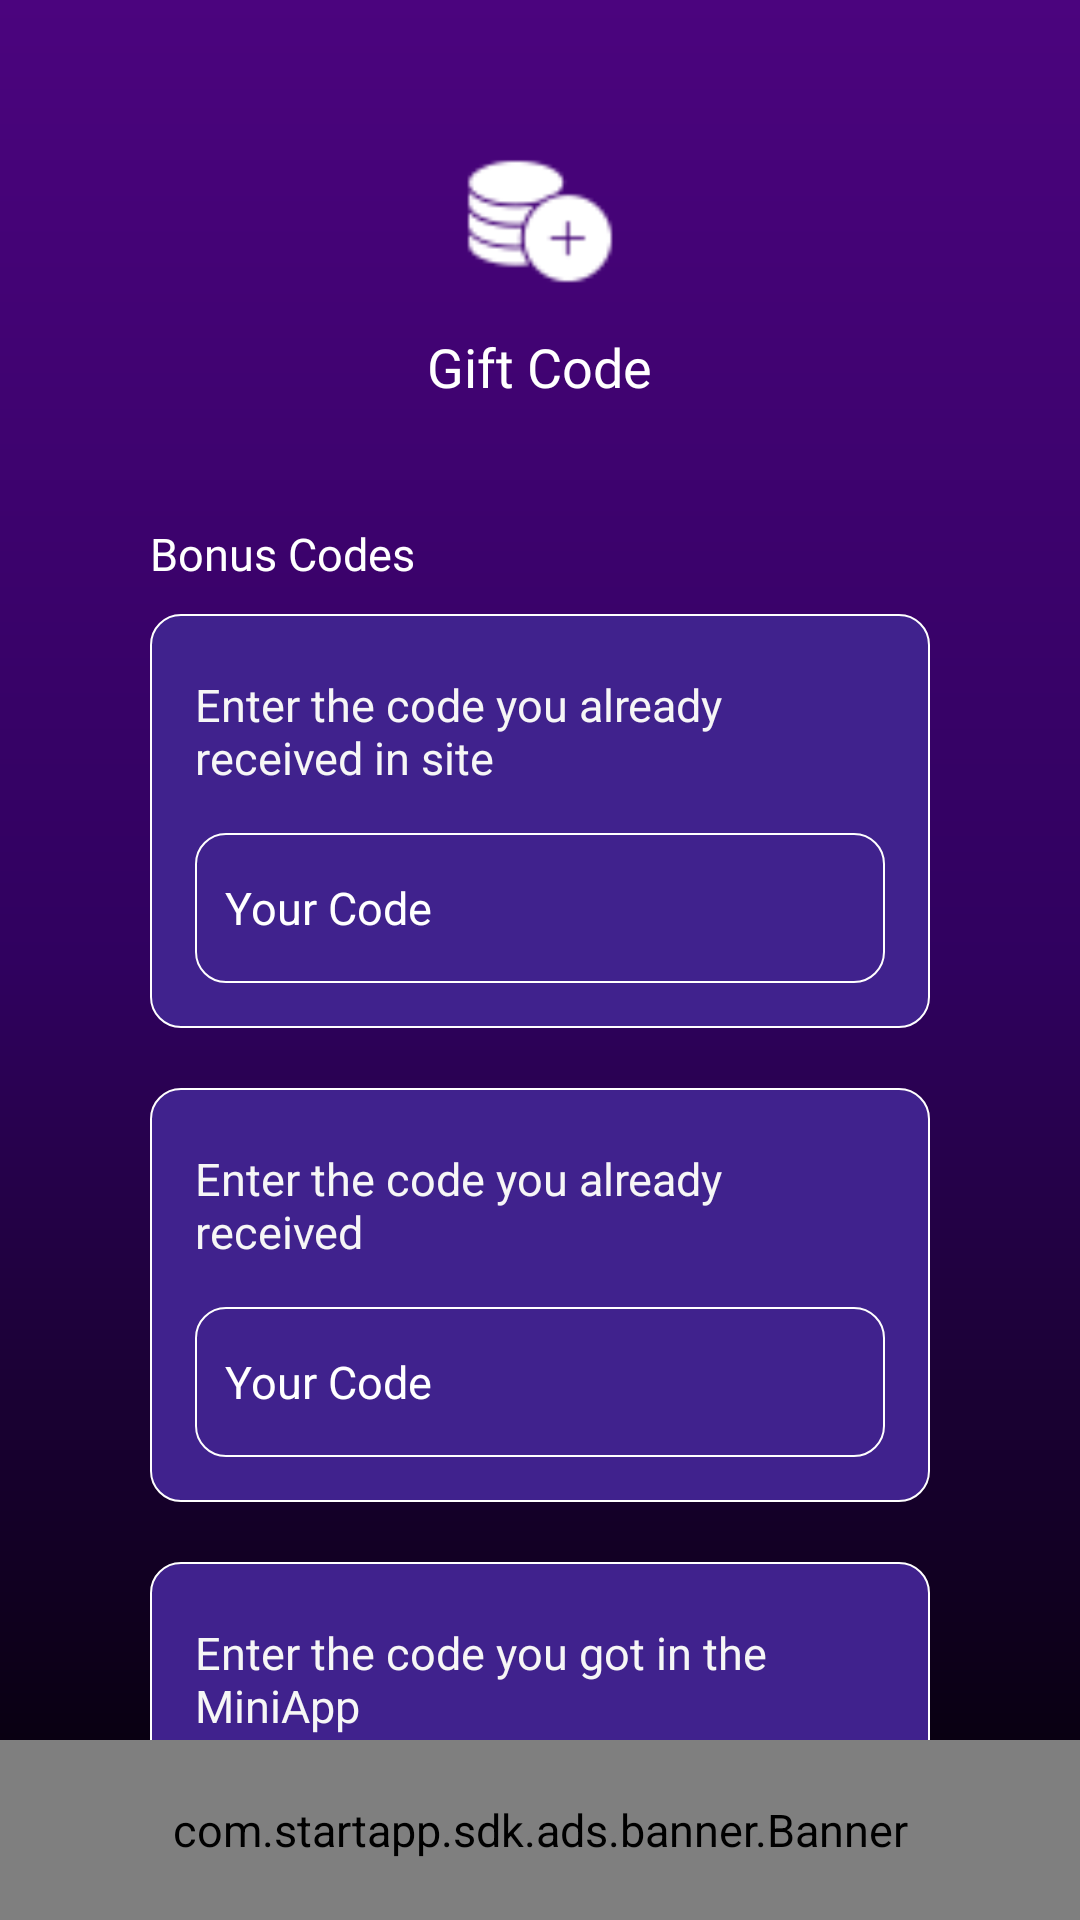

Point at icon controls on the screen. Image size 1080px×1920px, points as (x,y).
earn: (540,221)
